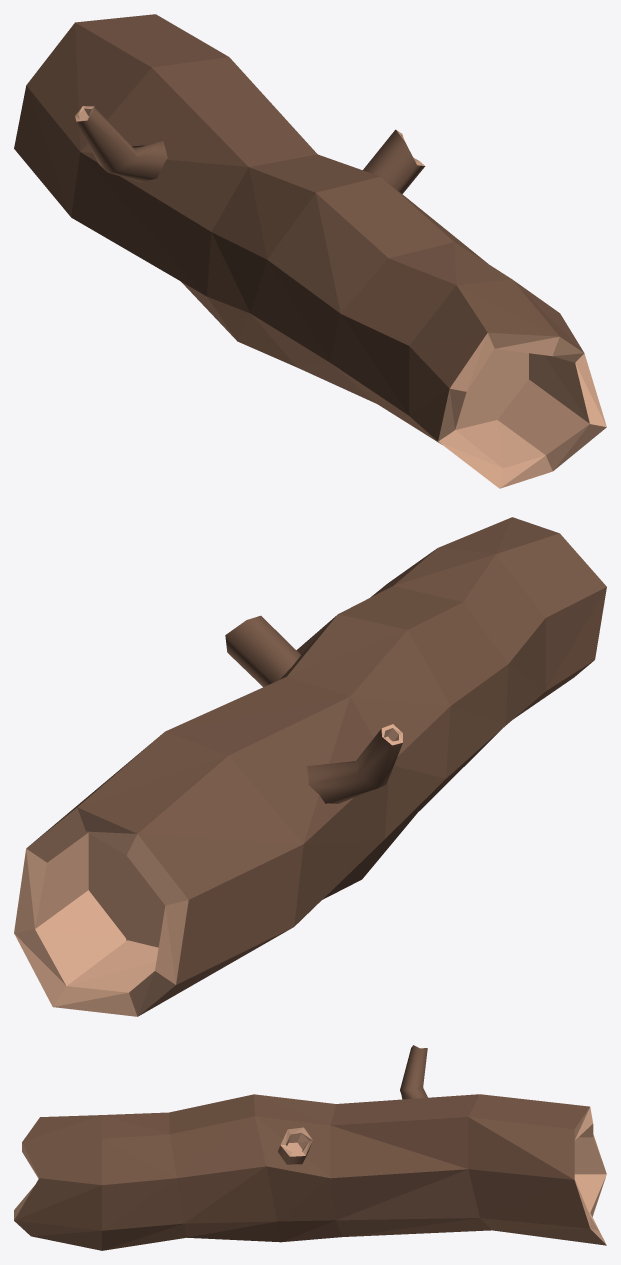
Rendered from Trunk.FBX.
The picture shows the model from 3 angles, top to bottom: view 1: azimuth 30°, elevation 25°; view 2: azimuth 150°, elevation 25°; view 3: azimuth 270°, elevation 25°; orthographic projection. The views are drawn at different scales.
Parts seen in each view (by area): view 1: Bark; view 2: Bark; view 3: Bark.
Boxes of the visible parts, <box> form: Bark: <box>14,14,606,488</box>; Bark: <box>14,517,606,1016</box>; Bark: <box>14,1045,606,1250</box>.
Size of the model in its own units: 84.66 by 67.36 by 254.
